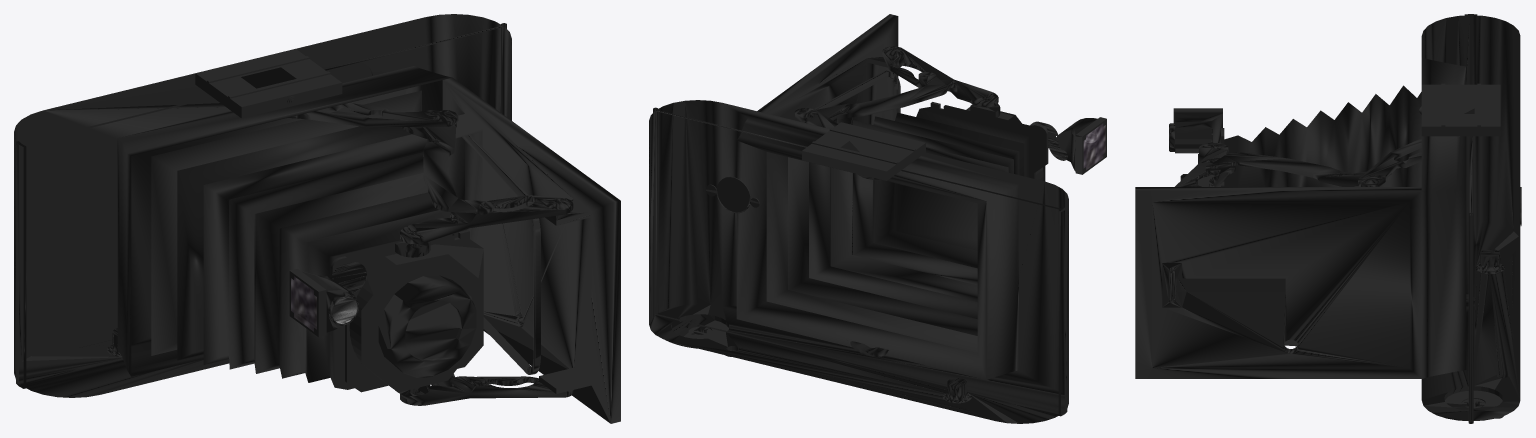
Rendered from model_align.obj.
3 views of the same model, side by side, from view 1: azimuth 30°, elevation 25°; view 2: azimuth 150°, elevation 25°; view 3: azimuth 270°, elevation 25° (orthographic). The views are drawn at different scales.
Size of the model in its own units: 0.1886 by 0.0993 by 0.152.
